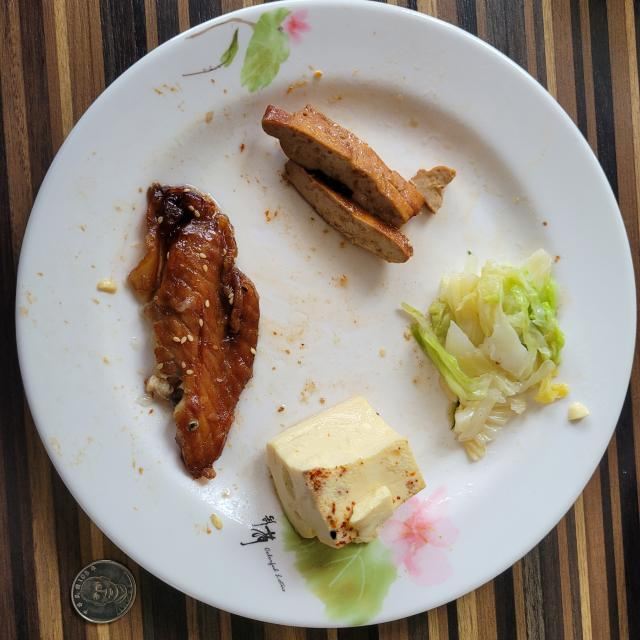Kabayaki sea bream fillet: (129, 182, 260, 479)
cabbage: (402, 250, 569, 460)
coin: (71, 560, 136, 624)
